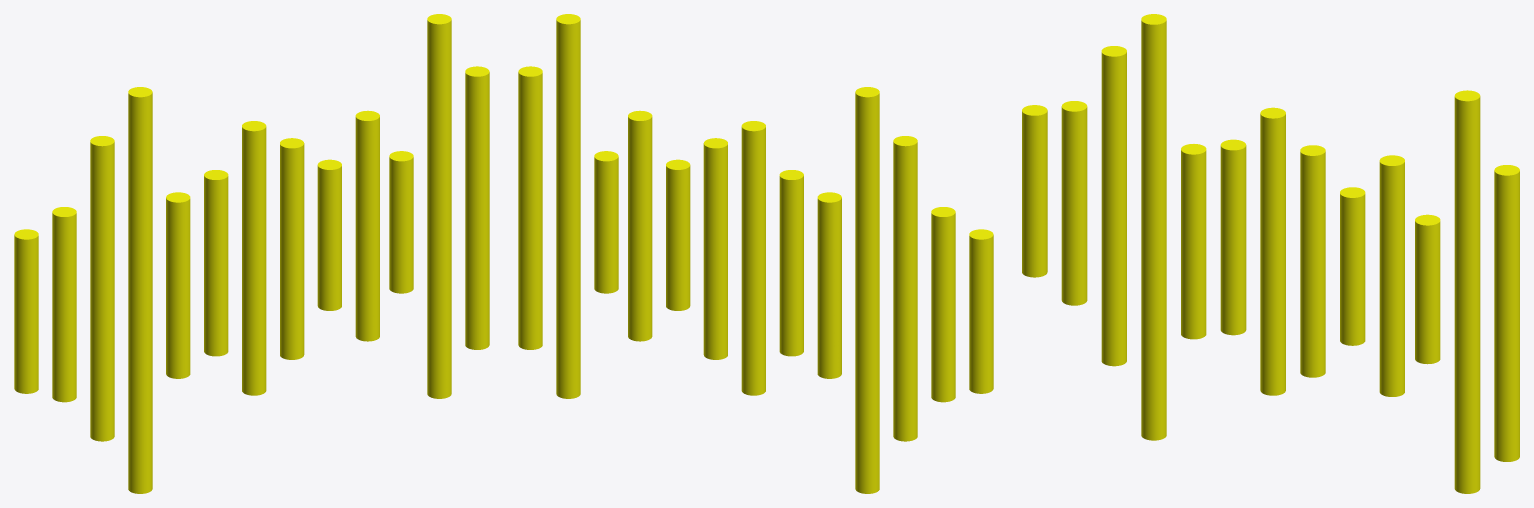
Rendered from SoundwaveColors.glb.
3 views of the same model, side by side, from view 1: azimuth 30°, elevation 25°; view 2: azimuth 150°, elevation 25°; view 3: azimuth 330°, elevation 25° (orthographic). The views are drawn at different scales.
Visible parts, largest first — view 1: Ellipse 4, Ellipse 12, Ellipse 3, Ellipse 13, Ellipse 7, Ellipse 10, Ellipse 8, Ellipse 2, Ellipse 5, Ellipse 6, Ellipse, Ellipse 9 (+1 smaller); view 2: Ellipse 4, Ellipse 12, Ellipse 3, Ellipse 13, Ellipse 7, Ellipse 10, Ellipse 8, Ellipse 2, Ellipse 5, Ellipse 6, Ellipse, Ellipse 9 (+1 smaller); view 3: Ellipse 4, Ellipse 12, Ellipse 3, Ellipse 13, Ellipse 7, Ellipse 10, Ellipse 8, Ellipse 2, Ellipse 6, Ellipse 5, Ellipse, Ellipse 9 (+1 smaller).
Boxes of the visible parts, x1,y1,x2,y2 form: Ellipse 4: (128,87,152,493); Ellipse 12: (427,14,451,398); Ellipse 3: (90,136,114,441); Ellipse 13: (465,66,489,349); Ellipse 7: (242,121,266,395); Ellipse 10: (355,110,379,341); Ellipse 8: (280,138,304,359); Ellipse 2: (52,207,76,402); Ellipse 5: (166,192,190,378); Ellipse 6: (204,170,228,356); Ellipse: (14,229,38,393); Ellipse 9: (317,159,341,310); Ellipse 4: (855,87,879,493); Ellipse 12: (556,14,580,398); Ellipse 3: (893,136,917,441); Ellipse 13: (518,66,542,349); Ellipse 7: (741,121,765,395); Ellipse 10: (628,110,652,341); Ellipse 8: (703,138,727,359); Ellipse 2: (931,207,955,402); Ellipse 5: (817,192,841,378); Ellipse 6: (779,170,803,356); Ellipse: (969,229,993,393); Ellipse 9: (666,159,690,310); Ellipse 4: (1141,14,1166,440); Ellipse 12: (1454,90,1480,493); Ellipse 3: (1101,46,1126,366); Ellipse 13: (1494,165,1519,461); Ellipse 7: (1260,107,1285,395); Ellipse 10: (1379,155,1404,396); Ellipse 8: (1300,145,1325,377); Ellipse 2: (1061,101,1087,305); Ellipse 6: (1220,139,1246,335); Ellipse 5: (1181,144,1206,339); Ellipse: (1022,105,1047,277); Ellipse 9: (1340,187,1365,345).
Size of the model in its own units: 1.12 by 0.9 by 0.05.
